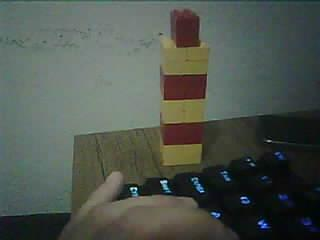lego: (159, 7, 211, 165)
